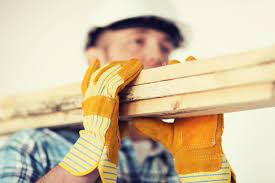gloves: (64, 59, 135, 181)
